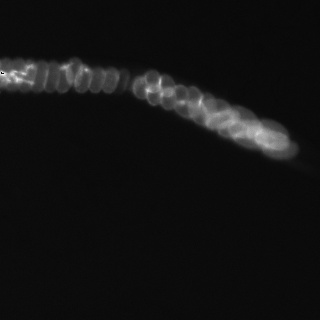embryo: (204, 106, 240, 133), (254, 126, 289, 151), (234, 126, 269, 150), (257, 140, 298, 160), (228, 119, 265, 140), (260, 119, 289, 141), (63, 58, 84, 88), (19, 59, 37, 91), (7, 59, 26, 89), (219, 119, 245, 140), (186, 99, 206, 125), (33, 61, 49, 91), (174, 100, 199, 119), (45, 63, 61, 92), (56, 64, 72, 92), (101, 69, 119, 93), (115, 69, 132, 93), (75, 68, 92, 92), (144, 70, 161, 93), (203, 98, 229, 113), (159, 86, 175, 110), (132, 74, 147, 99), (159, 75, 175, 98), (89, 69, 105, 92), (233, 105, 256, 120), (146, 84, 161, 105), (186, 86, 200, 102), (175, 85, 186, 99)
